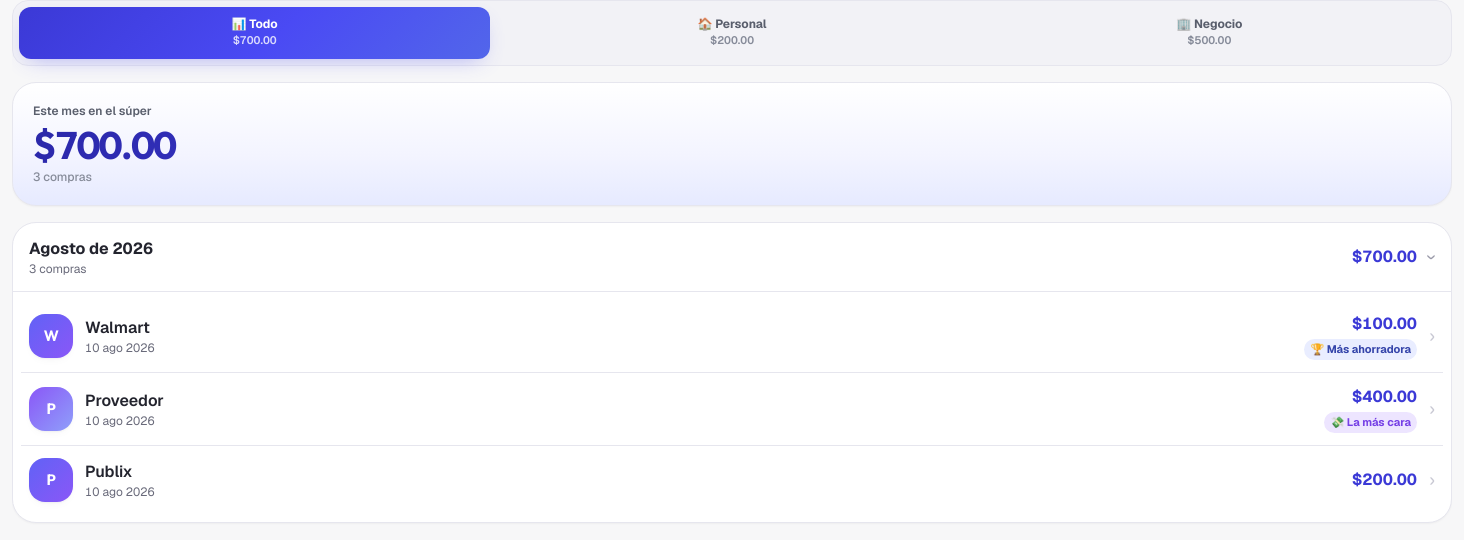
TripsScopedList — filtro Personal / Negocio › en «Negocio» deja fuera la compra personal
This screenshot has width=1464, height=540.
Click the button "🏢 Negocio $500.00".
click(1209, 33)  # box [974,7,1445,58]
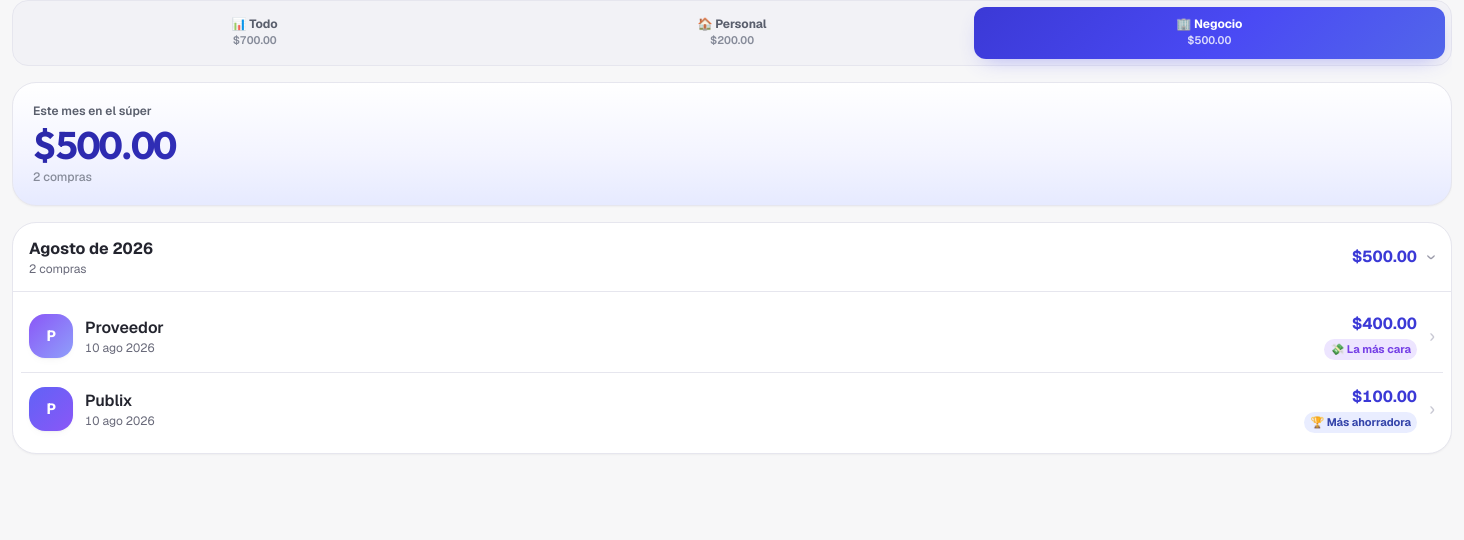
Result: the element "Este mes en el súper" shows "500" at [33,120,176,168]
Result: the link "Walmart" is gone
